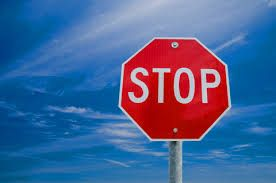stop_sign: (119, 37, 232, 141)
